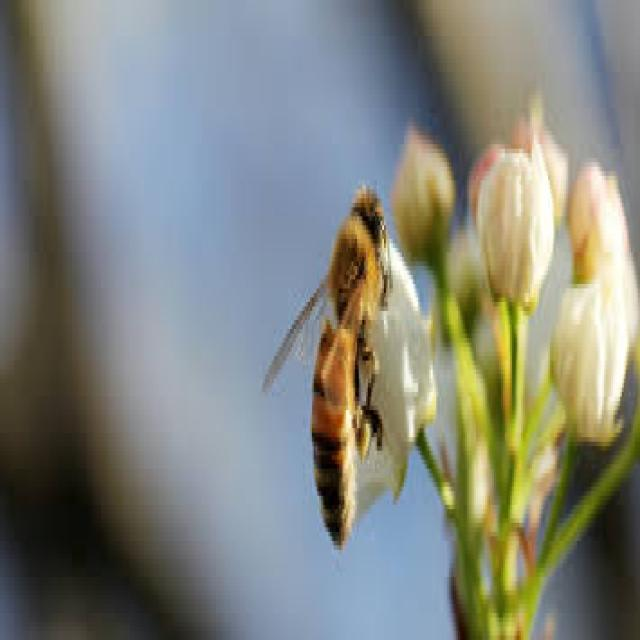Bees: (261, 186, 393, 552)
